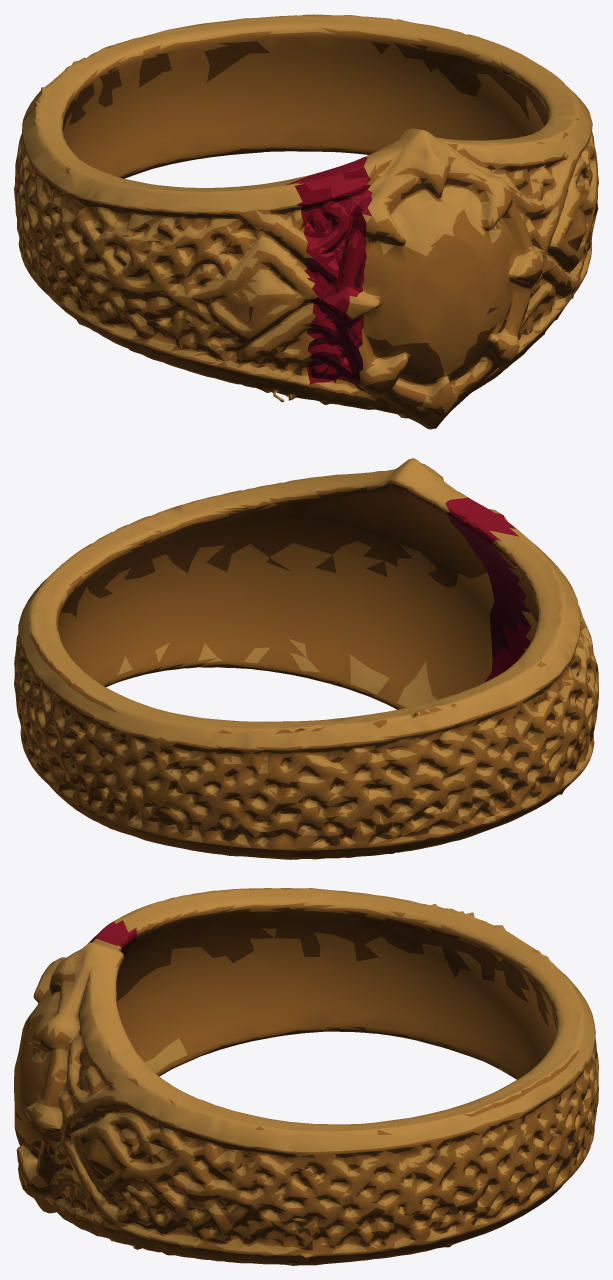
The model's file is anel.glb.
3 views of the same model, one above another, from view 1: azimuth 30°, elevation 25°; view 2: azimuth 150°, elevation 25°; view 3: azimuth 270°, elevation 25° (orthographic).
Visible parts, largest first — view 1: tmpvlcsh3nf.ply; view 2: tmpvlcsh3nf.ply; view 3: tmpvlcsh3nf.ply.
Boxes of the visible parts, left/top/right/bottom form: tmpvlcsh3nf.ply: left=14, top=14, right=598, bottom=429; tmpvlcsh3nf.ply: left=14, top=458, right=598, bottom=859; tmpvlcsh3nf.ply: left=14, top=888, right=598, bottom=1265.
Size of the model in its own units: 1.96 by 1.02 by 1.96.
